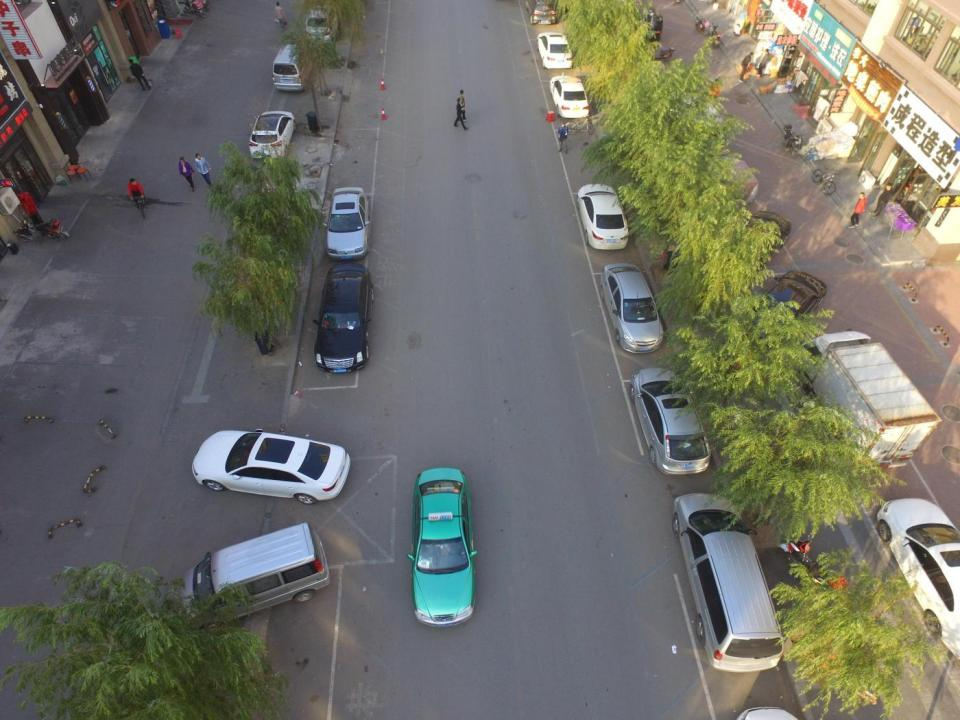car: (875, 497, 960, 665), (191, 427, 351, 505), (406, 466, 477, 629), (629, 367, 712, 476), (313, 262, 374, 374), (741, 270, 828, 342), (598, 262, 664, 354), (720, 210, 790, 278), (653, 90, 731, 138), (575, 182, 629, 251), (322, 185, 371, 261), (248, 110, 296, 160), (549, 74, 590, 118), (303, 1, 340, 44), (536, 31, 573, 69), (525, 0, 556, 25)
truck: (790, 328, 943, 469)
van: (672, 492, 784, 673), (178, 521, 331, 634), (271, 43, 312, 91)
